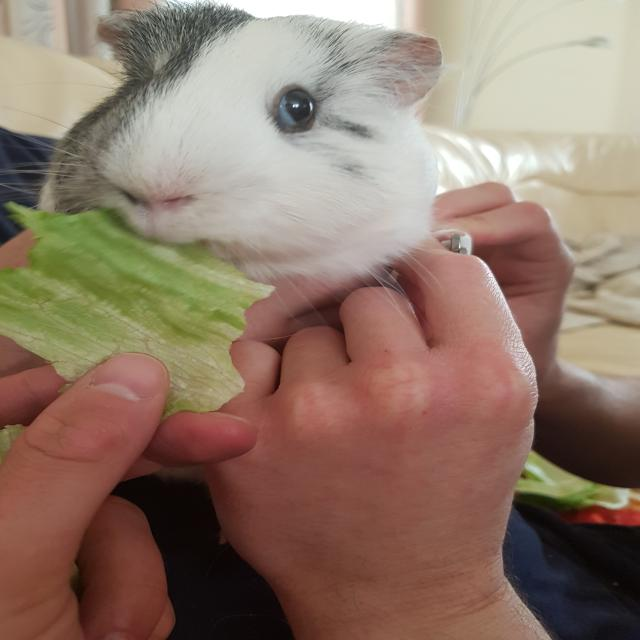guinea pig: (32, 3, 476, 291)
